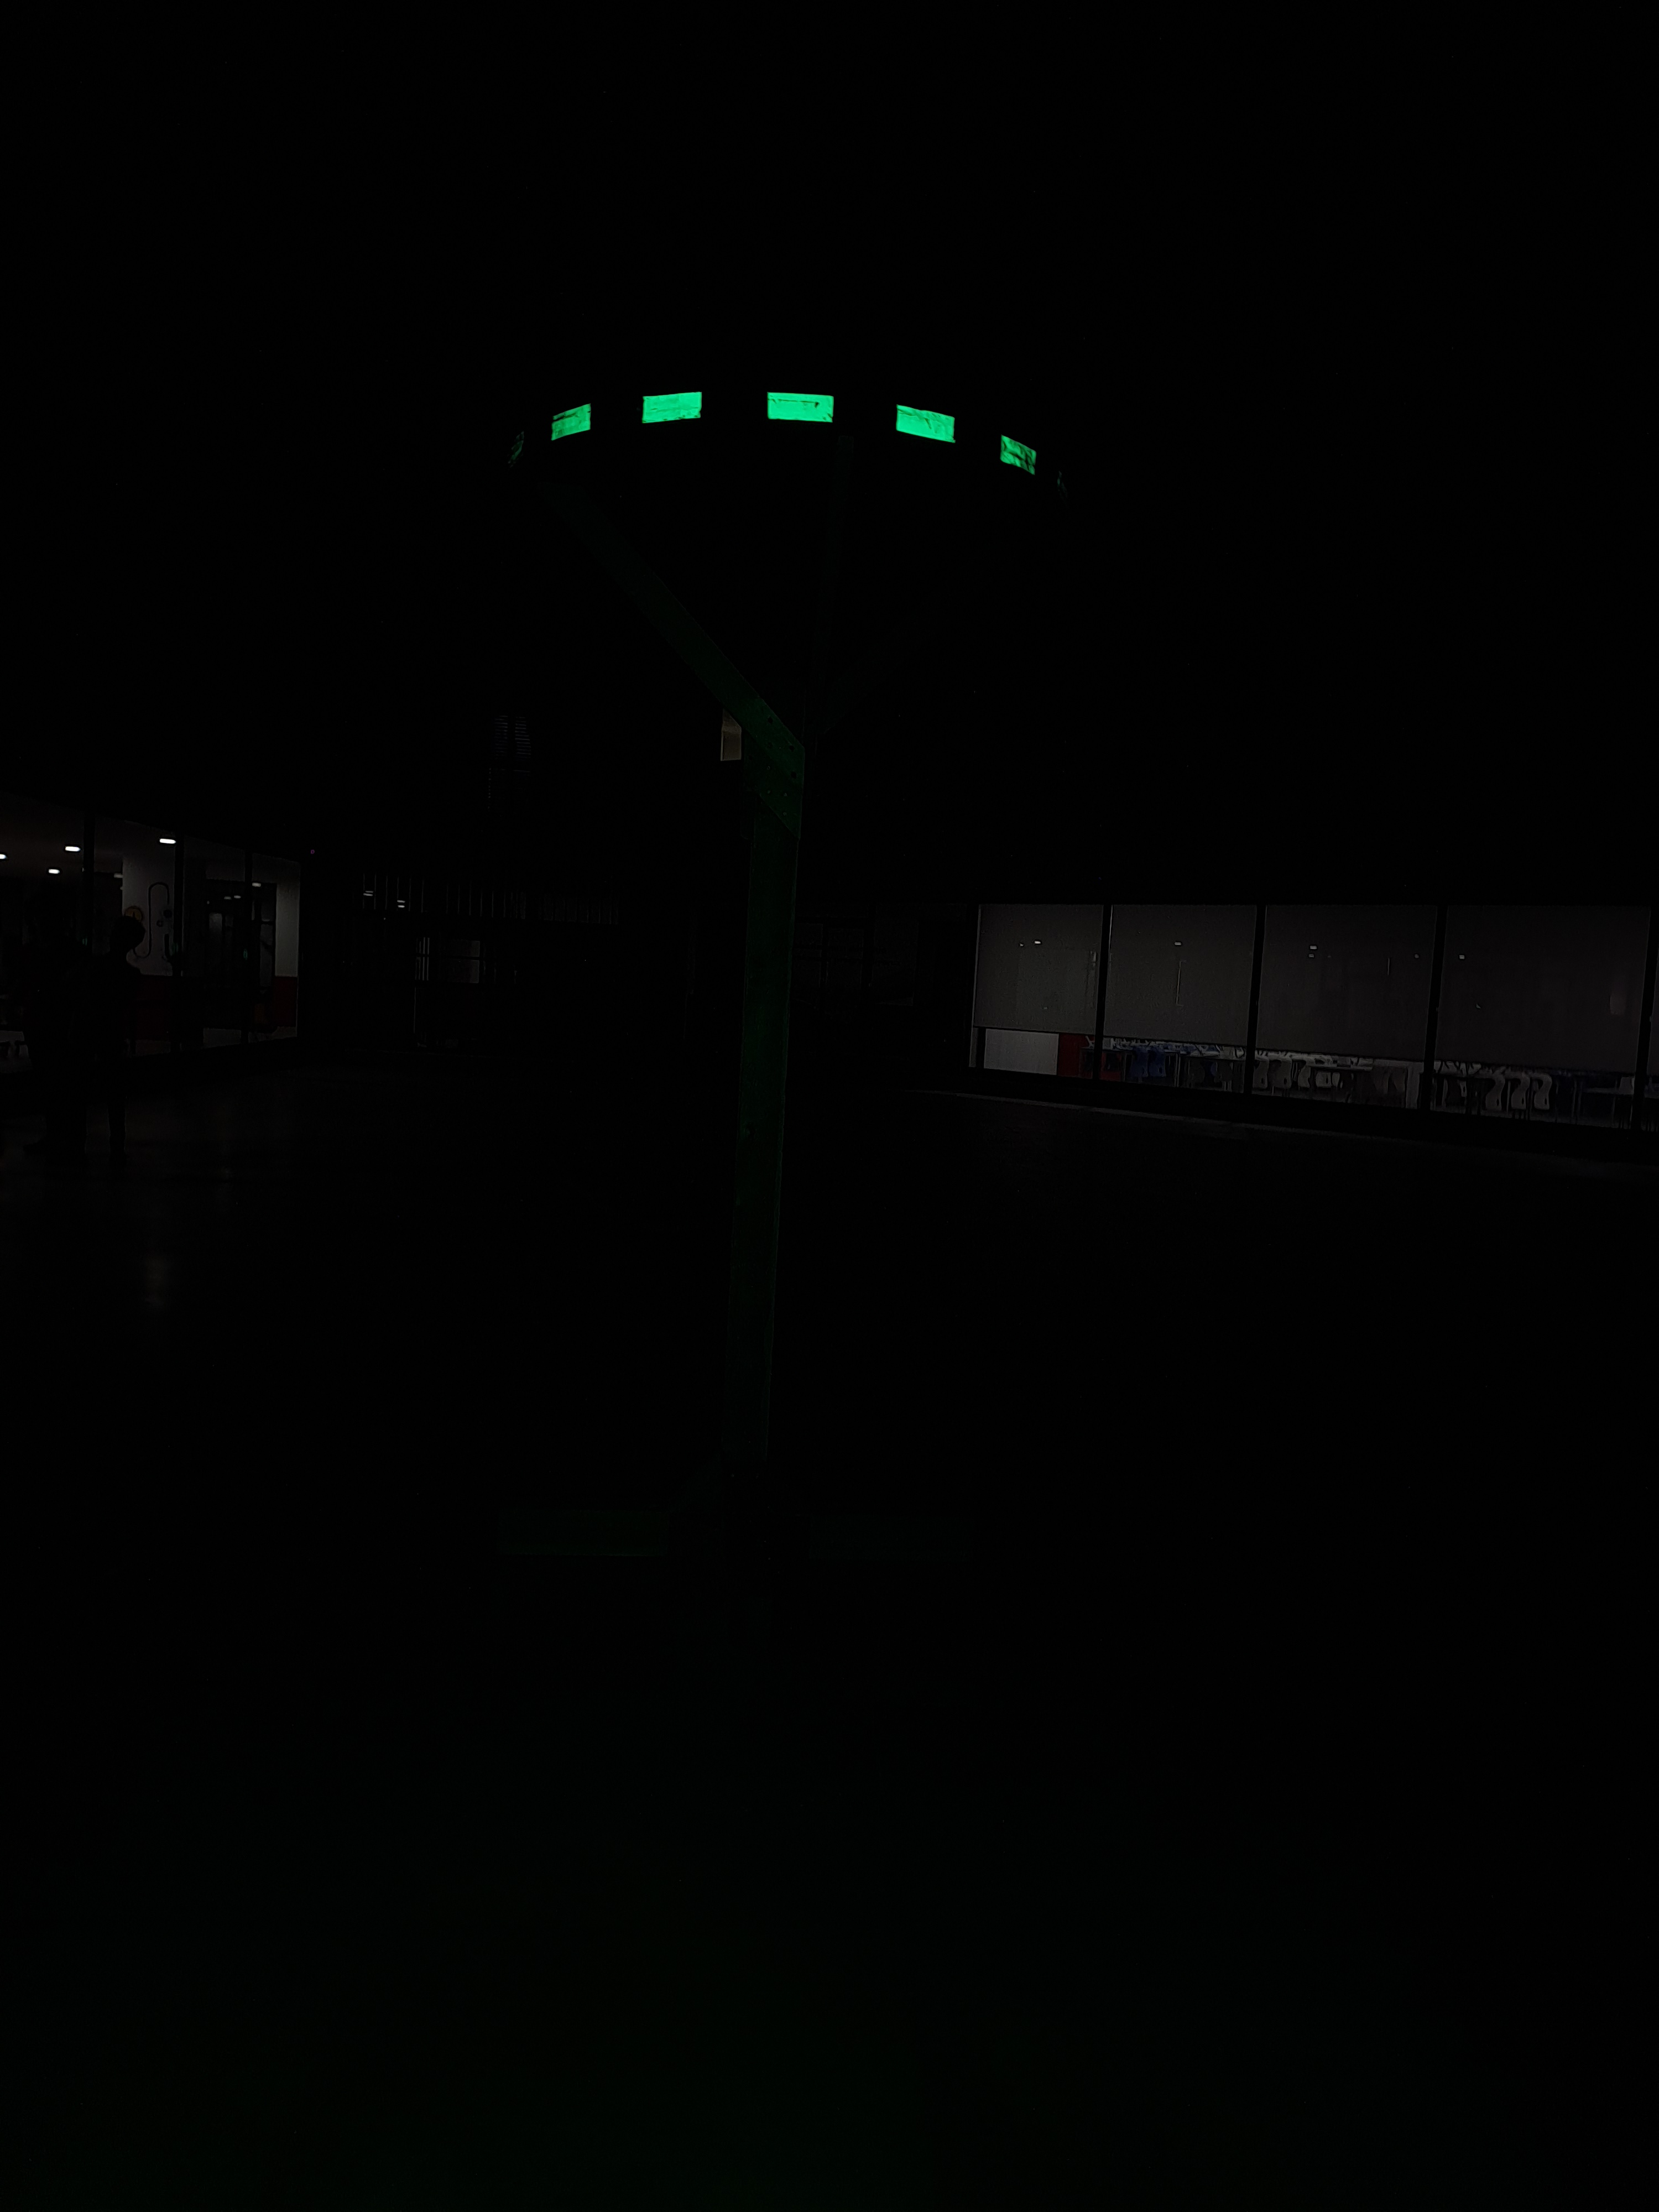hoop: (542, 387, 1044, 489)
